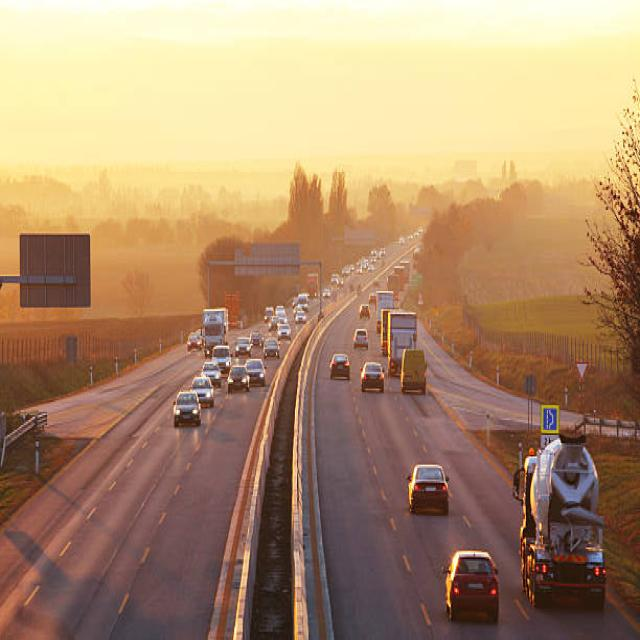16-Wheelers: (512, 432, 606, 610)
Car: (441, 549, 499, 624), (406, 463, 448, 514), (360, 360, 384, 392), (330, 352, 350, 379), (353, 327, 368, 349)
Truck: (201, 306, 228, 357)
